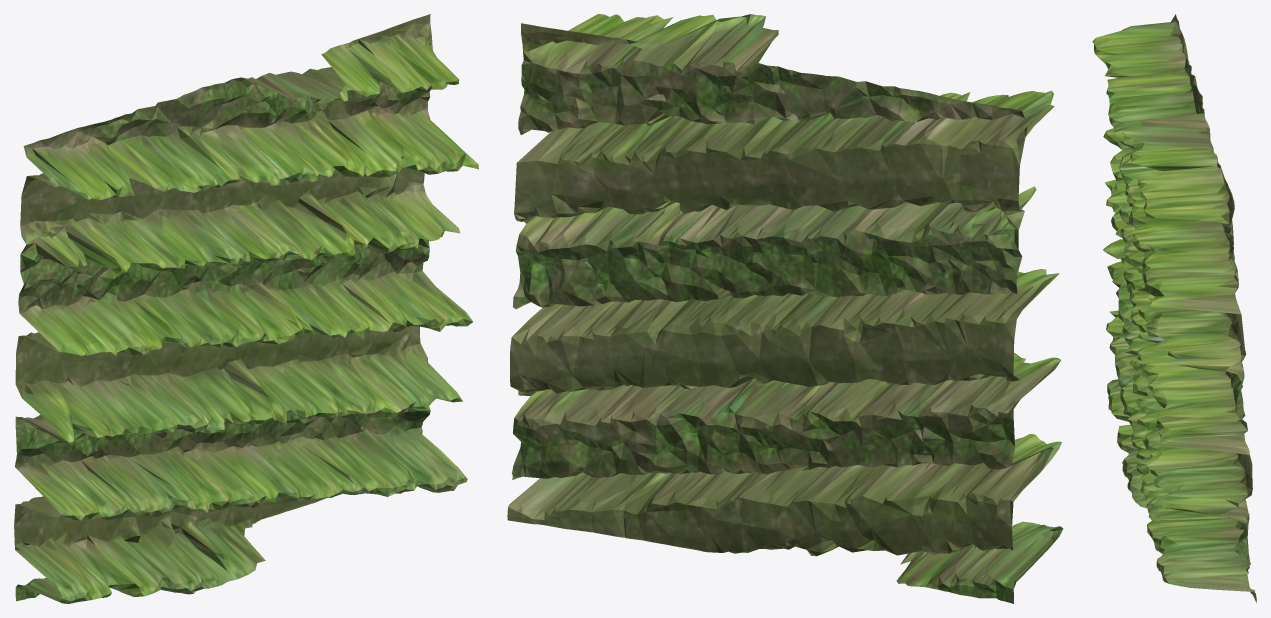
File: map_20_0.obj
3 views of the same model, side by side, from view 1: azimuth 30°, elevation 25°; view 2: azimuth 150°, elevation 25°; view 3: azimuth 270°, elevation 25° (orthographic). The views are drawn at different scales.
Parts seen in each view (by area): view 1: grp1; view 2: grp1; view 3: grp1.
Boxes of the visible parts, x1,y1,x2,y2 form: grp1: [14, 14, 478, 603]; grp1: [507, 14, 1063, 603]; grp1: [1092, 14, 1256, 602].
Bounding box in the file's own units: 10 × 10 × 3.71.
Materials: 1 (1 with a texture image).
